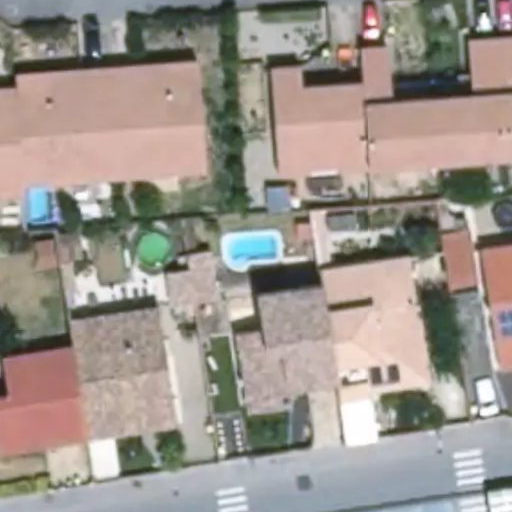pool: (223, 231, 283, 266), (137, 232, 178, 269), (27, 187, 57, 228)
